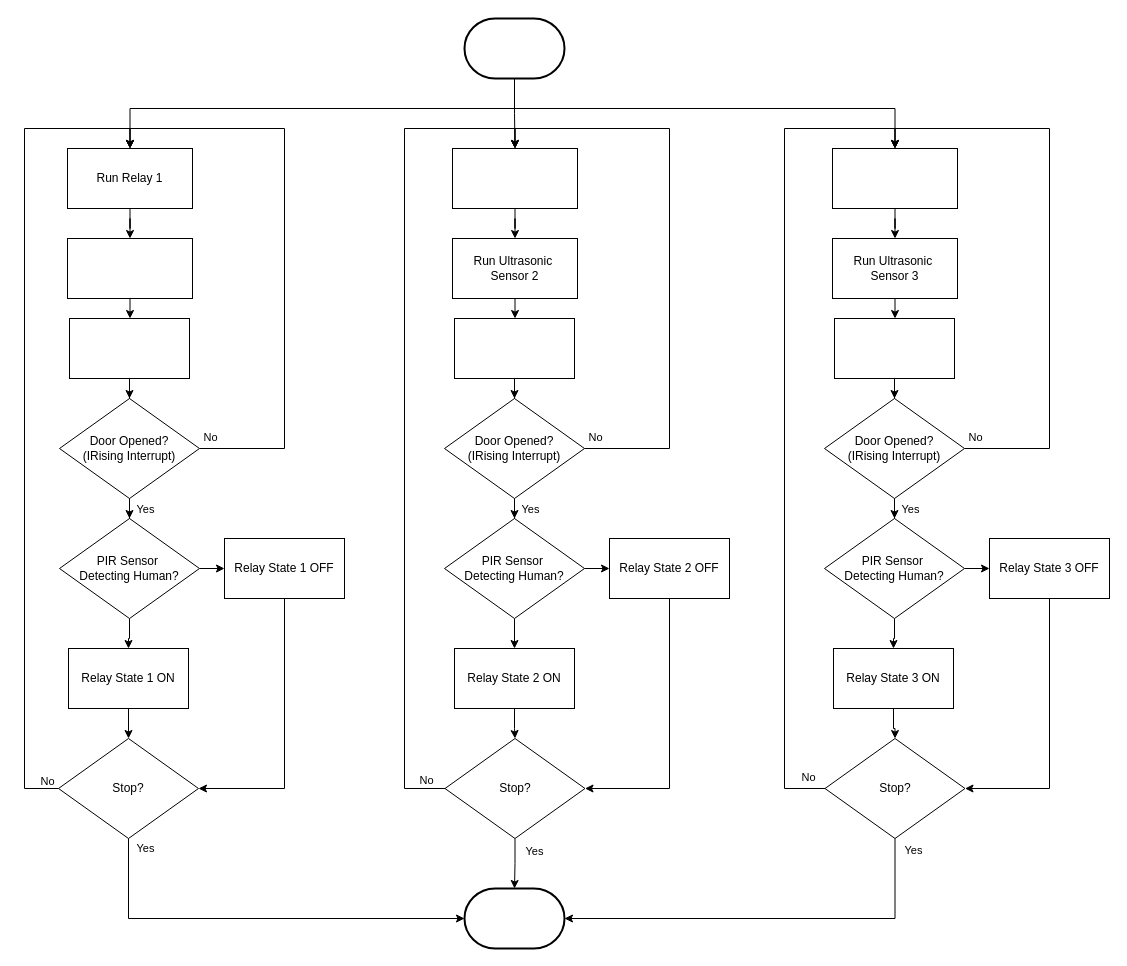
Some shapes in this 1127 by 966 pixel diagram are drawn without their labels. Each missing label, with the box of its shape:
End: (463, 887, 565, 949)
Run PIR Sensor 1: (68, 318, 190, 378)
Run PIR Sensor 2: (454, 318, 574, 378)
Run PIR Sensor 3: (834, 318, 954, 378)
Run Relay 2: (452, 148, 578, 208)
Run Relay 3: (832, 148, 958, 208)
Run Ultrasonic Sensor 1: (66, 238, 192, 298)
Start: (463, 17, 565, 79)
